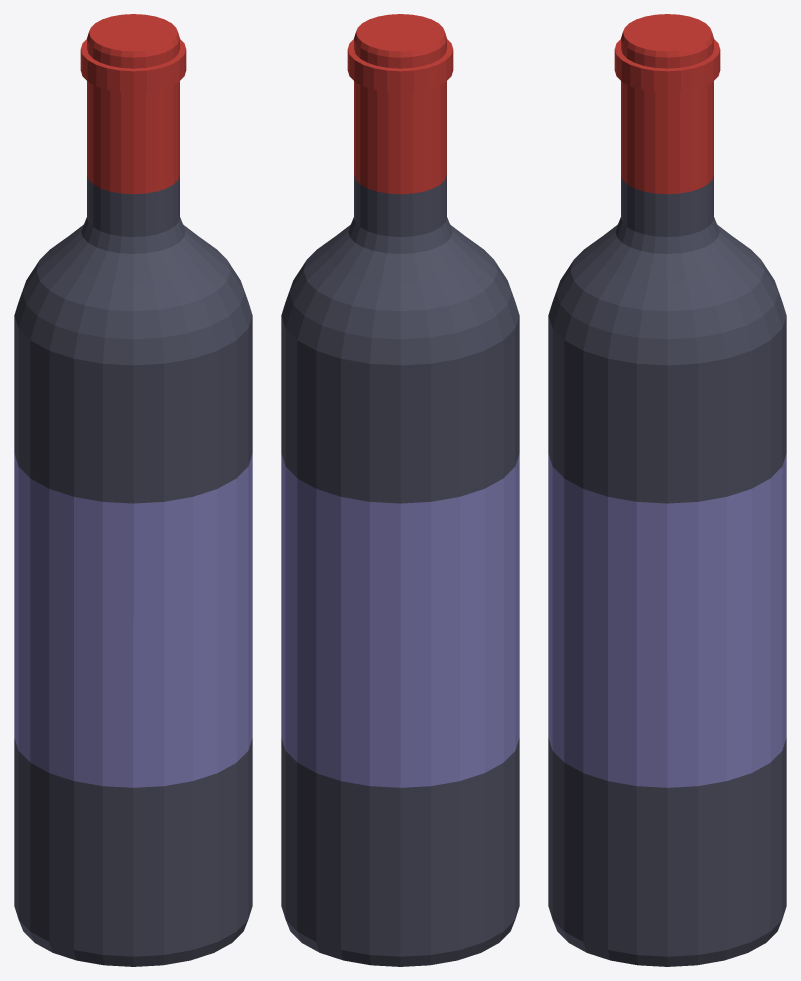
Rendered from Wine_01.fbx.
The picture shows the model from 3 angles, left to right: view 1: azimuth 30°, elevation 25°; view 2: azimuth 150°, elevation 25°; view 3: azimuth 270°, elevation 25°; orthographic projection.
Visible parts, largest first — view 1: Wine_01; view 2: Wine_01; view 3: Wine_01.
Boxes of the visible parts, <box> form: Wine_01: <box>14,14,252,966</box>; Wine_01: <box>281,14,519,966</box>; Wine_01: <box>548,14,786,966</box>.
Bounding box in the file's own units: 8.91 × 36.56 × 8.91.
